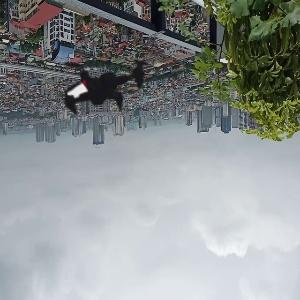drone: (33, 8, 175, 150)
